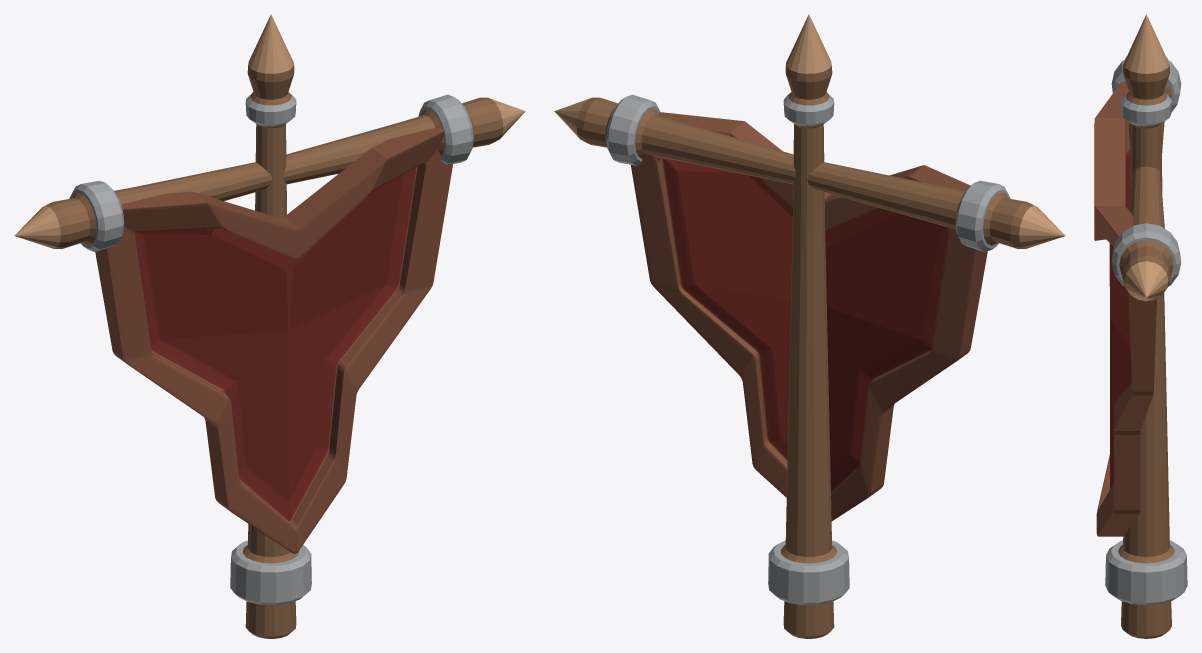
File: env-flag.fbx
The picture shows the model from 3 angles, left to right: view 1: azimuth 30°, elevation 25°; view 2: azimuth 150°, elevation 25°; view 3: azimuth 270°, elevation 25°; orthographic projection.
Parts seen in each view (by area): view 1: Cube.274; view 2: Cube.274; view 3: Cube.274.
Boxes of the visible parts, left/top/right/bottom form: Cube.274: left=14, top=14, right=525, bottom=638; Cube.274: left=554, top=14, right=1065, bottom=638; Cube.274: left=1094, top=14, right=1187, bottom=638.
Size of the model in its own units: 315 by 362 by 49.67.
